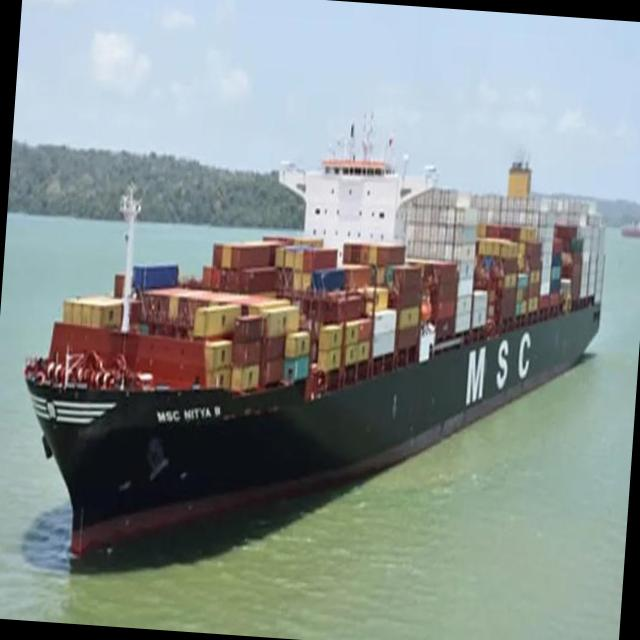Cargo: (23, 158, 604, 554)
